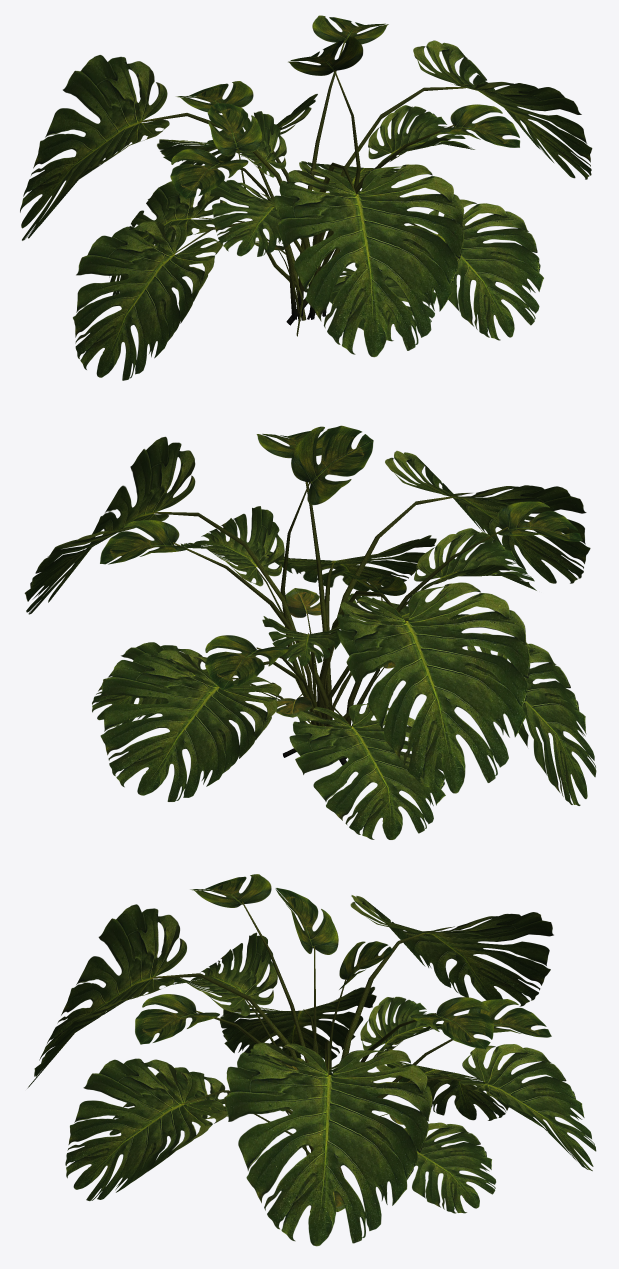
The model's file is monstera.glb.
3 views of the same model, one above another, from view 1: azimuth 30°, elevation 25°; view 2: azimuth 150°, elevation 25°; view 3: azimuth 270°, elevation 25° (orthographic). The views are drawn at different scales.
Parts seen in each view (by area): view 1: monstera_a; view 2: monstera_a; view 3: monstera_a.
Boxes of the visible parts, <box> form: monstera_a: <box>20,15,592,380</box>; monstera_a: <box>24,425,596,839</box>; monstera_a: <box>27,874,596,1246</box>.
Bounding box in the file's own units: 2.32 × 1.33 × 2.24.
Materials: 1 (1 with a texture image).
